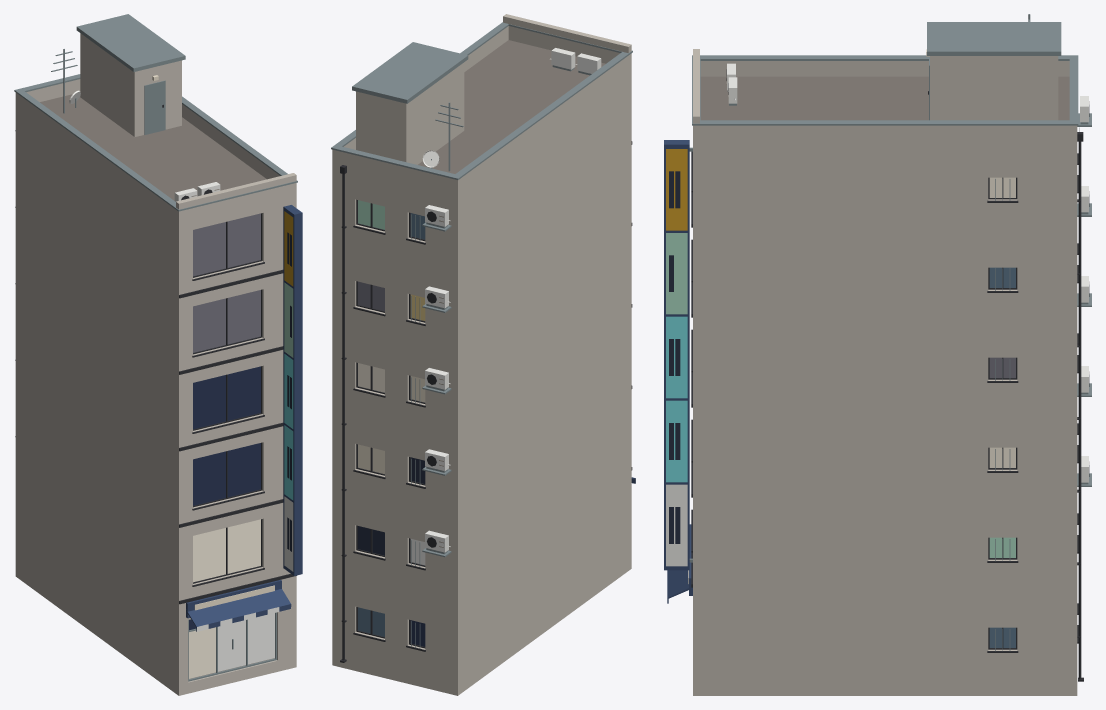
The model's file is tb_pencil_building_6f_01_b.fbx.
The picture shows the model from 3 angles, left to right: view 1: azimuth 30°, elevation 25°; view 2: azimuth 150°, elevation 25°; view 3: azimuth 270°, elevation 25°; orthographic projection. The views are drawn at different scales.
Parts seen in each view (by area): view 1: tb_pencil_building_6f_01_b; view 2: tb_pencil_building_6f_01_b; view 3: tb_pencil_building_6f_01_b.
Boxes of the visible parts, x1,y1,x2,y2 form: tb_pencil_building_6f_01_b: (14,14,302,695); tb_pencil_building_6f_01_b: (331,14,635,695); tb_pencil_building_6f_01_b: (664,14,1091,695).
Size of what is drawn, in the model's own units: 5.09 by 21.95 by 13.35.
Materials: 3 (3 with a texture image).
